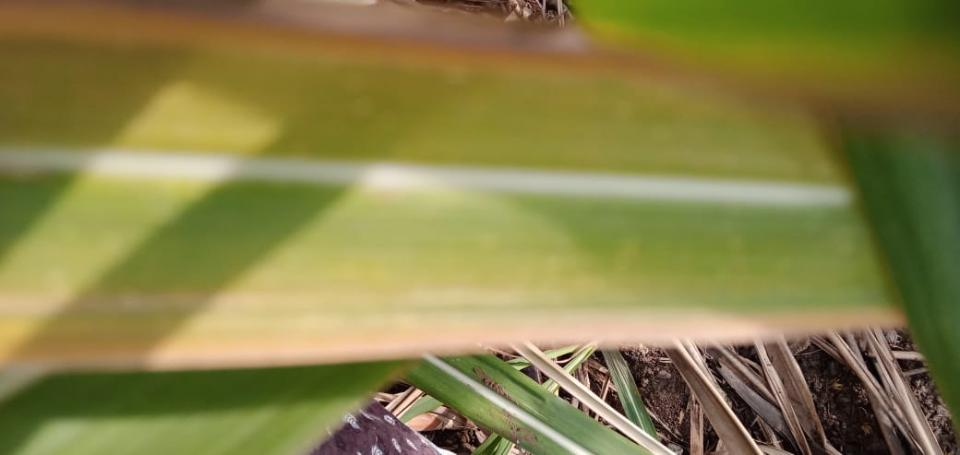Yellow: (0, 0, 835, 115), (0, 308, 908, 395)
